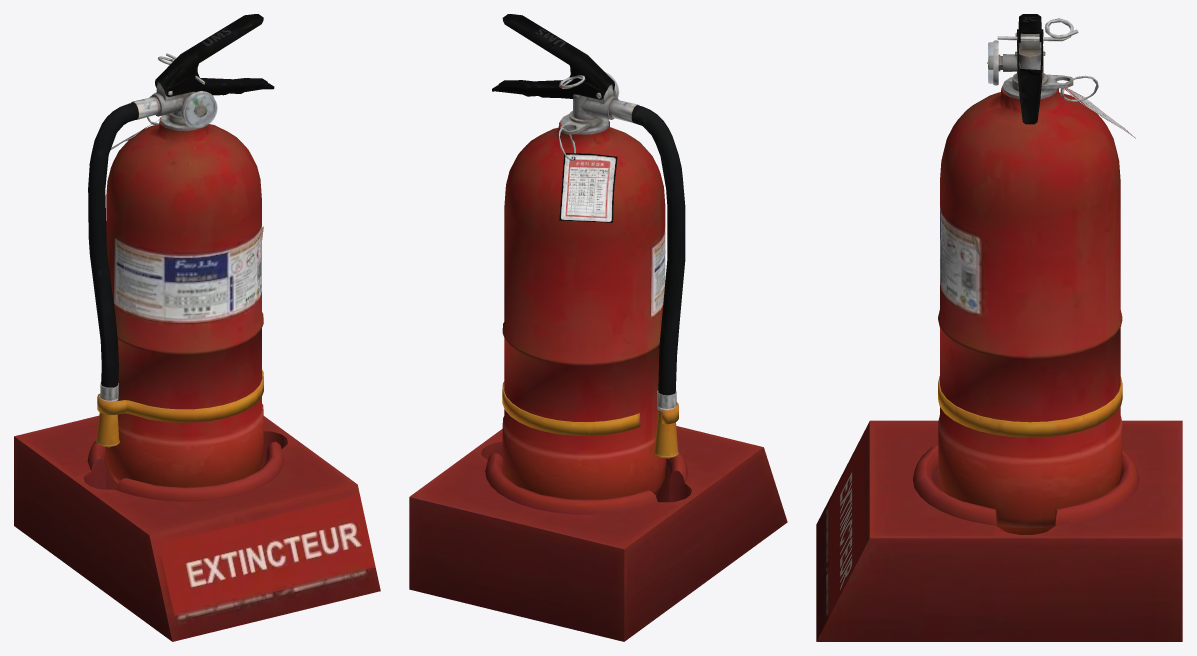
Rendered from korean_fire_extinguisher_01.glb.
3 renders of one model, left to right at view 1: azimuth 30°, elevation 25°; view 2: azimuth 150°, elevation 25°; view 3: azimuth 270°, elevation 25°, orthographic. The views are drawn at different scales.
Visible parts, largest first — view 1: korean_fire_extinguisher_01; view 2: korean_fire_extinguisher_01; view 3: korean_fire_extinguisher_01.
Boxes of the visible parts, box(x1,y1,x2,y2) form: korean_fire_extinguisher_01: box(14, 14, 380, 641); korean_fire_extinguisher_01: box(409, 14, 787, 641); korean_fire_extinguisher_01: box(816, 14, 1182, 641).
Bounding box in the file's own units: 0.279 × 0.6591 × 0.3674.
Materials: 3 (3 with a texture image).
